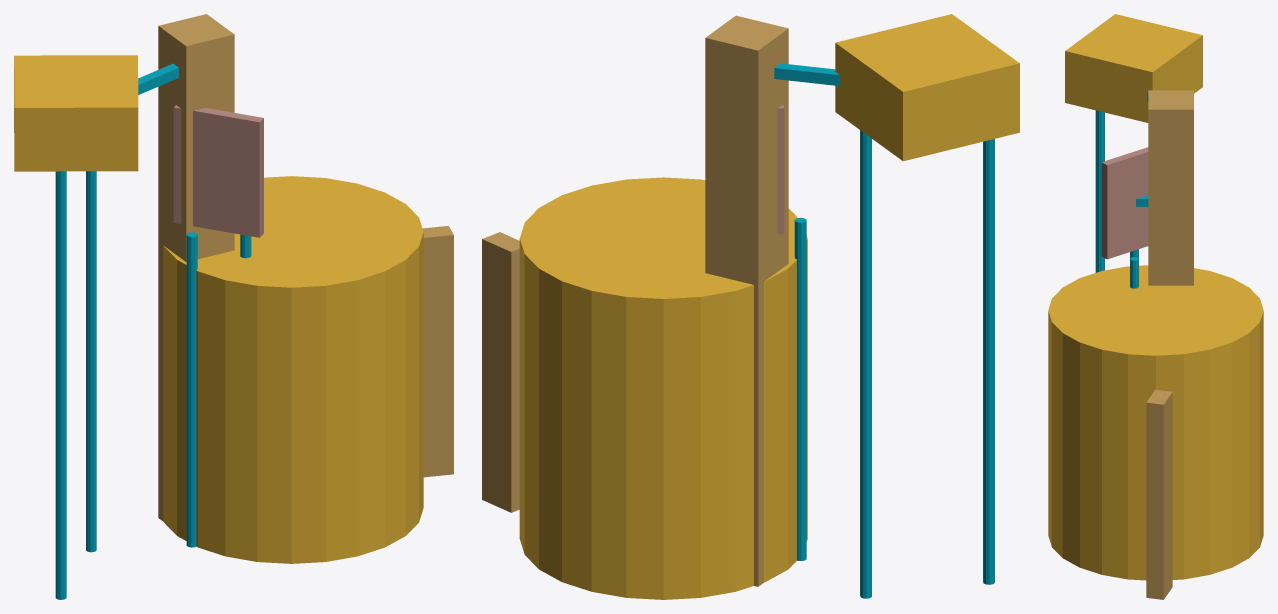
The model's file is folie_tag_105.glb.
3 renders of one model, left to right at view 1: azimuth 30°, elevation 25°; view 2: azimuth 150°, elevation 25°; view 3: azimuth 270°, elevation 25°, orthographic. The views are drawn at different scales.
Visible parts, largest first — view 1: folie_tag_105_00_drum, folie_tag_105_01_block, folie_tag_105_line, folie_tag_105_core, folie_tag_105_03_panel, folie_tag_105_02_fin; view 2: folie_tag_105_00_drum, folie_tag_105_core, folie_tag_105_01_block, folie_tag_105_line, folie_tag_105_02_fin, folie_tag_105_03_panel; view 3: folie_tag_105_00_drum, folie_tag_105_01_block, folie_tag_105_core, folie_tag_105_02_fin, folie_tag_105_03_panel, folie_tag_105_line.
Boxes of the visible parts, x1,y1,x2,y2 form: folie_tag_105_00_drum: (163, 176, 423, 563); folie_tag_105_01_block: (14, 55, 138, 171); folie_tag_105_line: (55, 63, 251, 599); folie_tag_105_core: (158, 14, 234, 521); folie_tag_105_03_panel: (173, 105, 263, 237); folie_tag_105_02_fin: (422, 226, 453, 477); folie_tag_105_00_drum: (519, 177, 807, 599); folie_tag_105_core: (705, 15, 788, 586); folie_tag_105_01_block: (835, 14, 1019, 161); folie_tag_105_line: (774, 63, 994, 598); folie_tag_105_02_fin: (482, 232, 519, 512); folie_tag_105_03_panel: (777, 105, 784, 234); folie_tag_105_00_drum: (1048, 265, 1263, 580); folie_tag_105_01_block: (1065, 14, 1202, 122); folie_tag_105_core: (1148, 90, 1193, 285); folie_tag_105_02_fin: (1146, 389, 1172, 599); folie_tag_105_03_panel: (1101, 147, 1148, 259); folie_tag_105_line: (1095, 93, 1148, 288).
Bounding box in the file's own units: 10.55 × 10.69 × 5.2.
